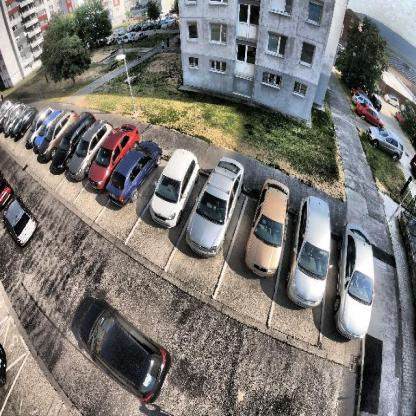occupied: (73, 308, 163, 379), (334, 214, 378, 348), (286, 186, 332, 313), (194, 164, 245, 259), (247, 180, 291, 281), (154, 150, 195, 226), (114, 140, 150, 207), (92, 126, 122, 192), (2, 200, 40, 244)
